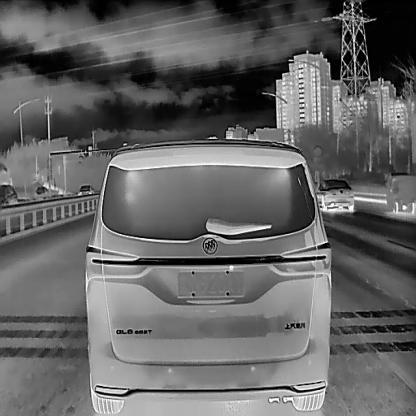car: (82, 133, 331, 414), (313, 175, 355, 213), (382, 169, 416, 214), (0, 182, 14, 204), (76, 182, 96, 195), (34, 186, 47, 198)
